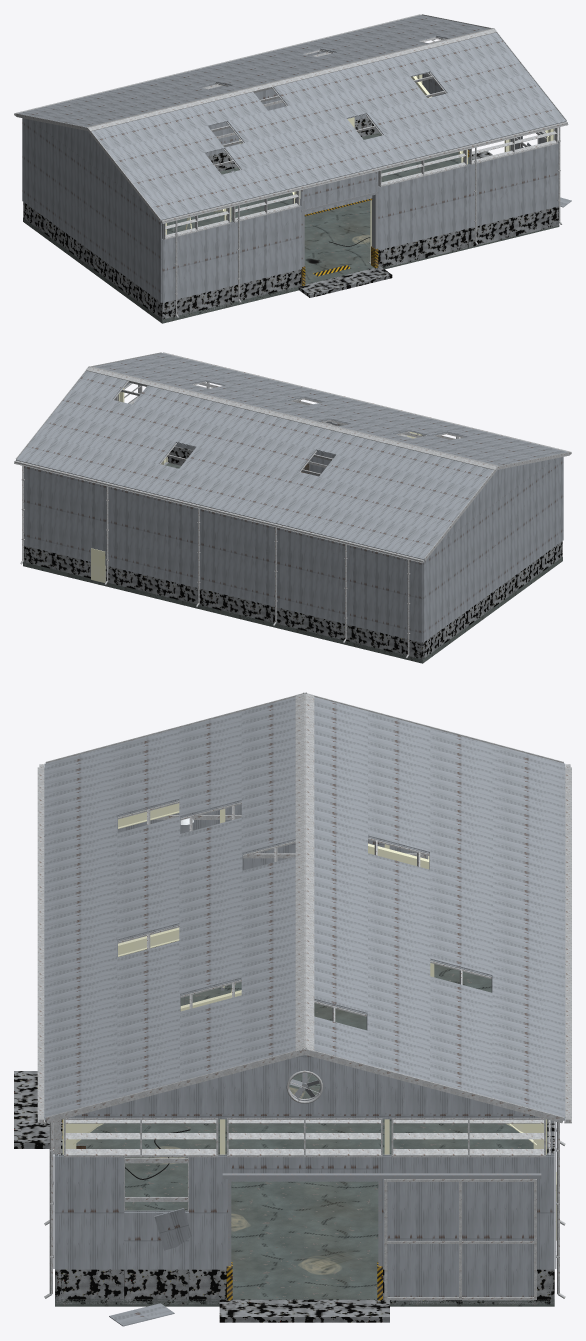
Rendered from warehouse.glb.
3 views of the same model, one above another, from view 1: azimuth 30°, elevation 25°; view 2: azimuth 150°, elevation 25°; view 3: azimuth 270°, elevation 25° (orthographic). The views are drawn at different scales.
Parts seen in each view (by area): view 1: warehouse-structure; view 2: warehouse-structure; view 3: warehouse-structure.
Boxes of the visible parts, bbox=[...] form: warehouse-structure: bbox=[14, 14, 571, 323]; warehouse-structure: bbox=[14, 352, 571, 663]; warehouse-structure: bbox=[14, 692, 571, 1326].
Size of the model in its own units: 30.57 by 9.86 by 18.99.
33 materials, 29 textured.
